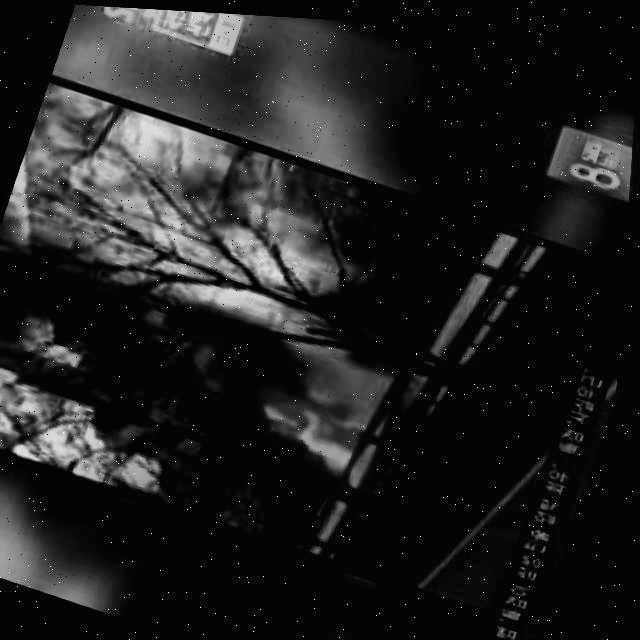Fire: (239, 367, 380, 480)
Smoke: (0, 65, 450, 408)
